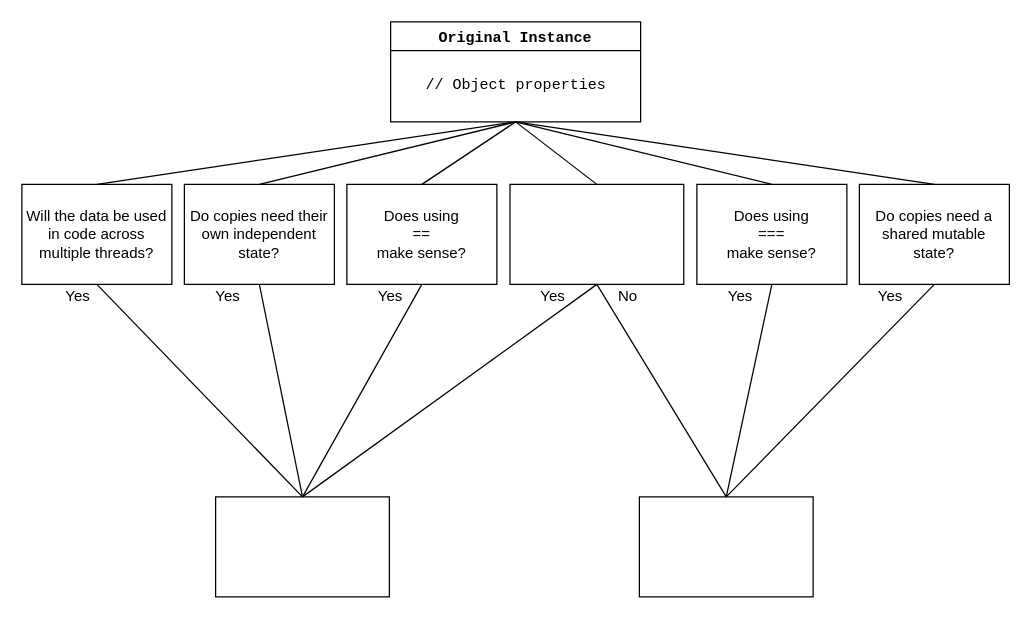
The diagram is 1031 pixels wide and 619 high, and some of its shapes have lost their labels. Here are the shapes that lost their labels. From the top down, the centre of each, then its label:
pixel 596 233: Do you need to modify this instance of data?
pixel 301 546: Use value type
pixel 725 546: Use reference type
